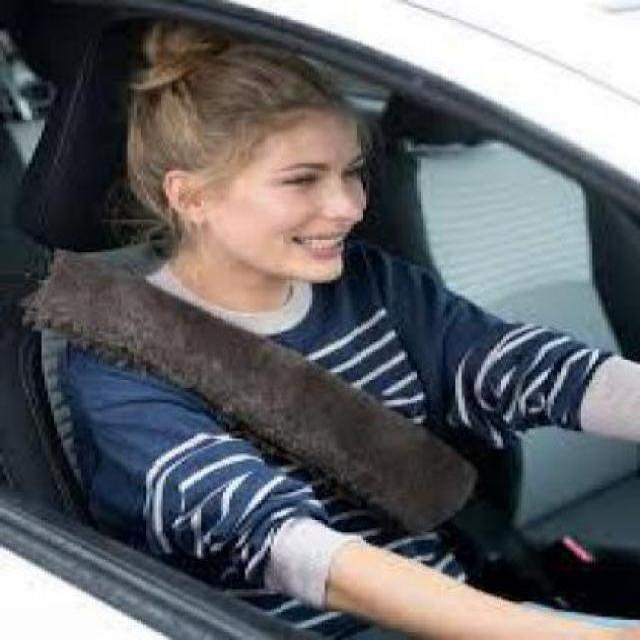seatbelt: (38, 239, 541, 585)
